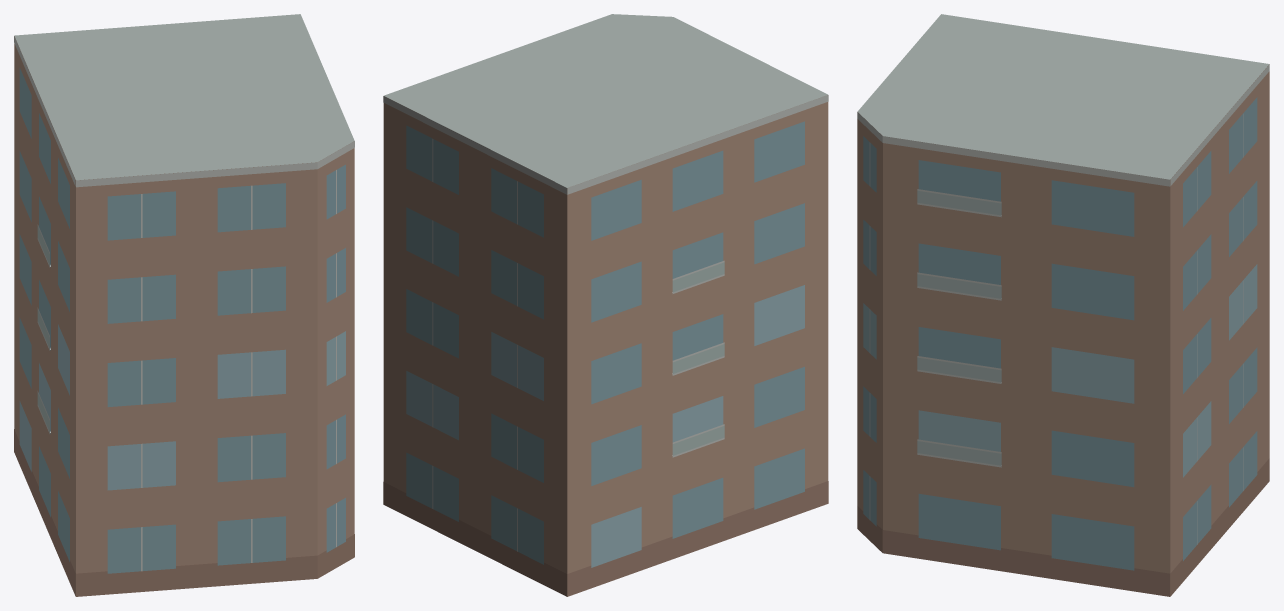
File: survey-upis-32878253.glb
The picture shows the model from 3 angles, left to right: view 1: azimuth 30°, elevation 25°; view 2: azimuth 150°, elevation 25°; view 3: azimuth 270°, elevation 25°; orthographic projection. The views are drawn at different scales.
Parts seen in each view (by area): view 1: survey-upis-32878253.tmp; view 2: survey-upis-32878253.tmp; view 3: survey-upis-32878253.tmp.
Part boxes in pixels (x1=…): survey-upis-32878253.tmp: x1=14, y1=14, x2=354, y2=596; survey-upis-32878253.tmp: x1=383, y1=14, x2=828, y2=596; survey-upis-32878253.tmp: x1=857, y1=14, x2=1269, y2=596.
Bounding box in the file's own units: 12.45 × 14.6 × 13.08.
